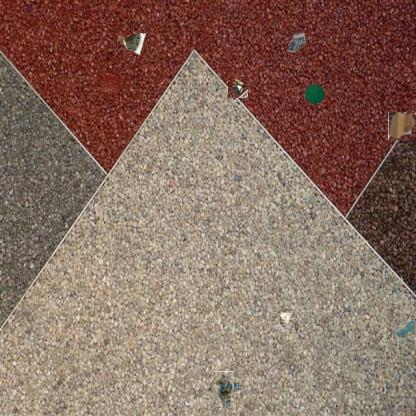dirty: (209, 375, 238, 404), (388, 112, 415, 140), (117, 32, 147, 56), (271, 308, 295, 332), (284, 31, 308, 55), (302, 81, 326, 105), (227, 75, 249, 97)
liquid: (98, 69, 122, 93), (394, 318, 416, 338)
